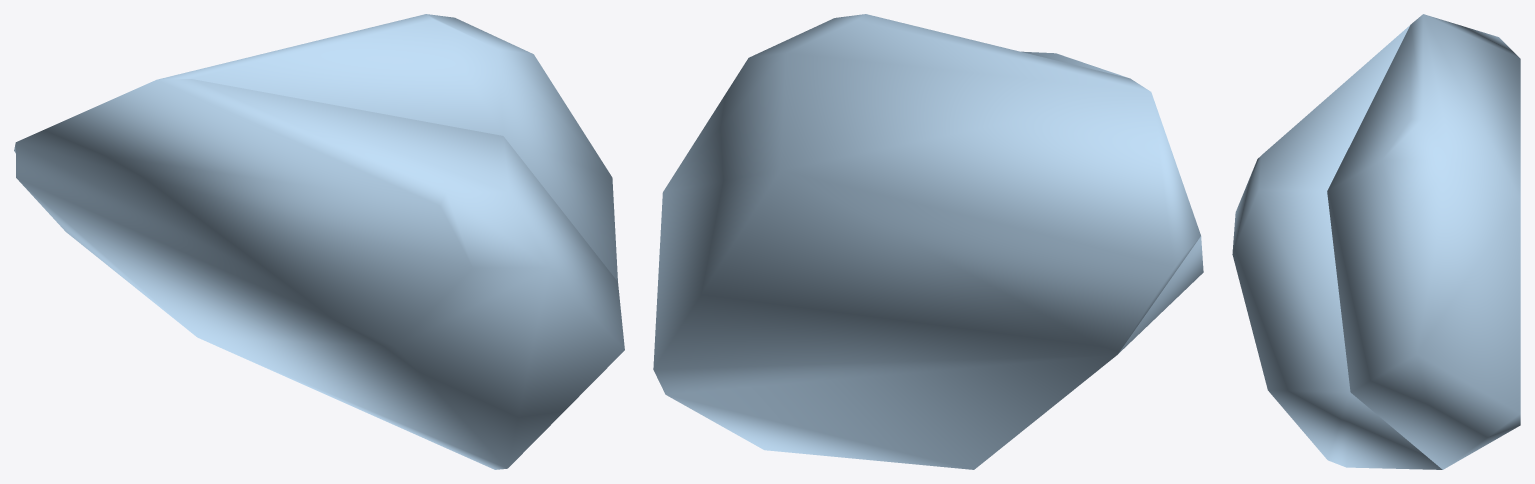
File: quartz-japan-twin.glb
3 views of the same model, side by side, from view 1: azimuth 30°, elevation 25°; view 2: azimuth 150°, elevation 25°; view 3: azimuth 270°, elevation 25° (orthographic). The views are drawn at different scales.
Parts seen in each view (by area): view 1: quartz-japan-twin; view 2: quartz-japan-twin; view 3: quartz-japan-twin.
Part boxes in pixels (x1,y1,x2,y2): quartz-japan-twin: (14, 14, 624, 469); quartz-japan-twin: (653, 14, 1203, 469); quartz-japan-twin: (1232, 14, 1520, 469).
Size of the model in its own units: 2.43 by 1.81 by 1.39.
